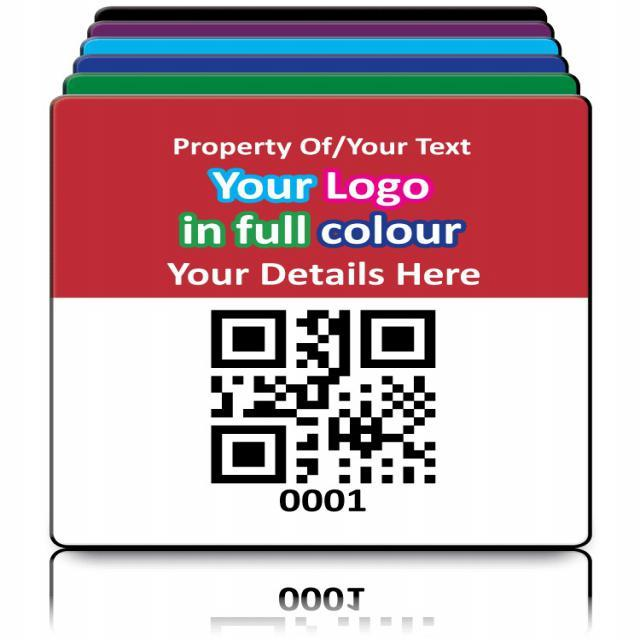qr_code: (210, 310, 437, 483)
